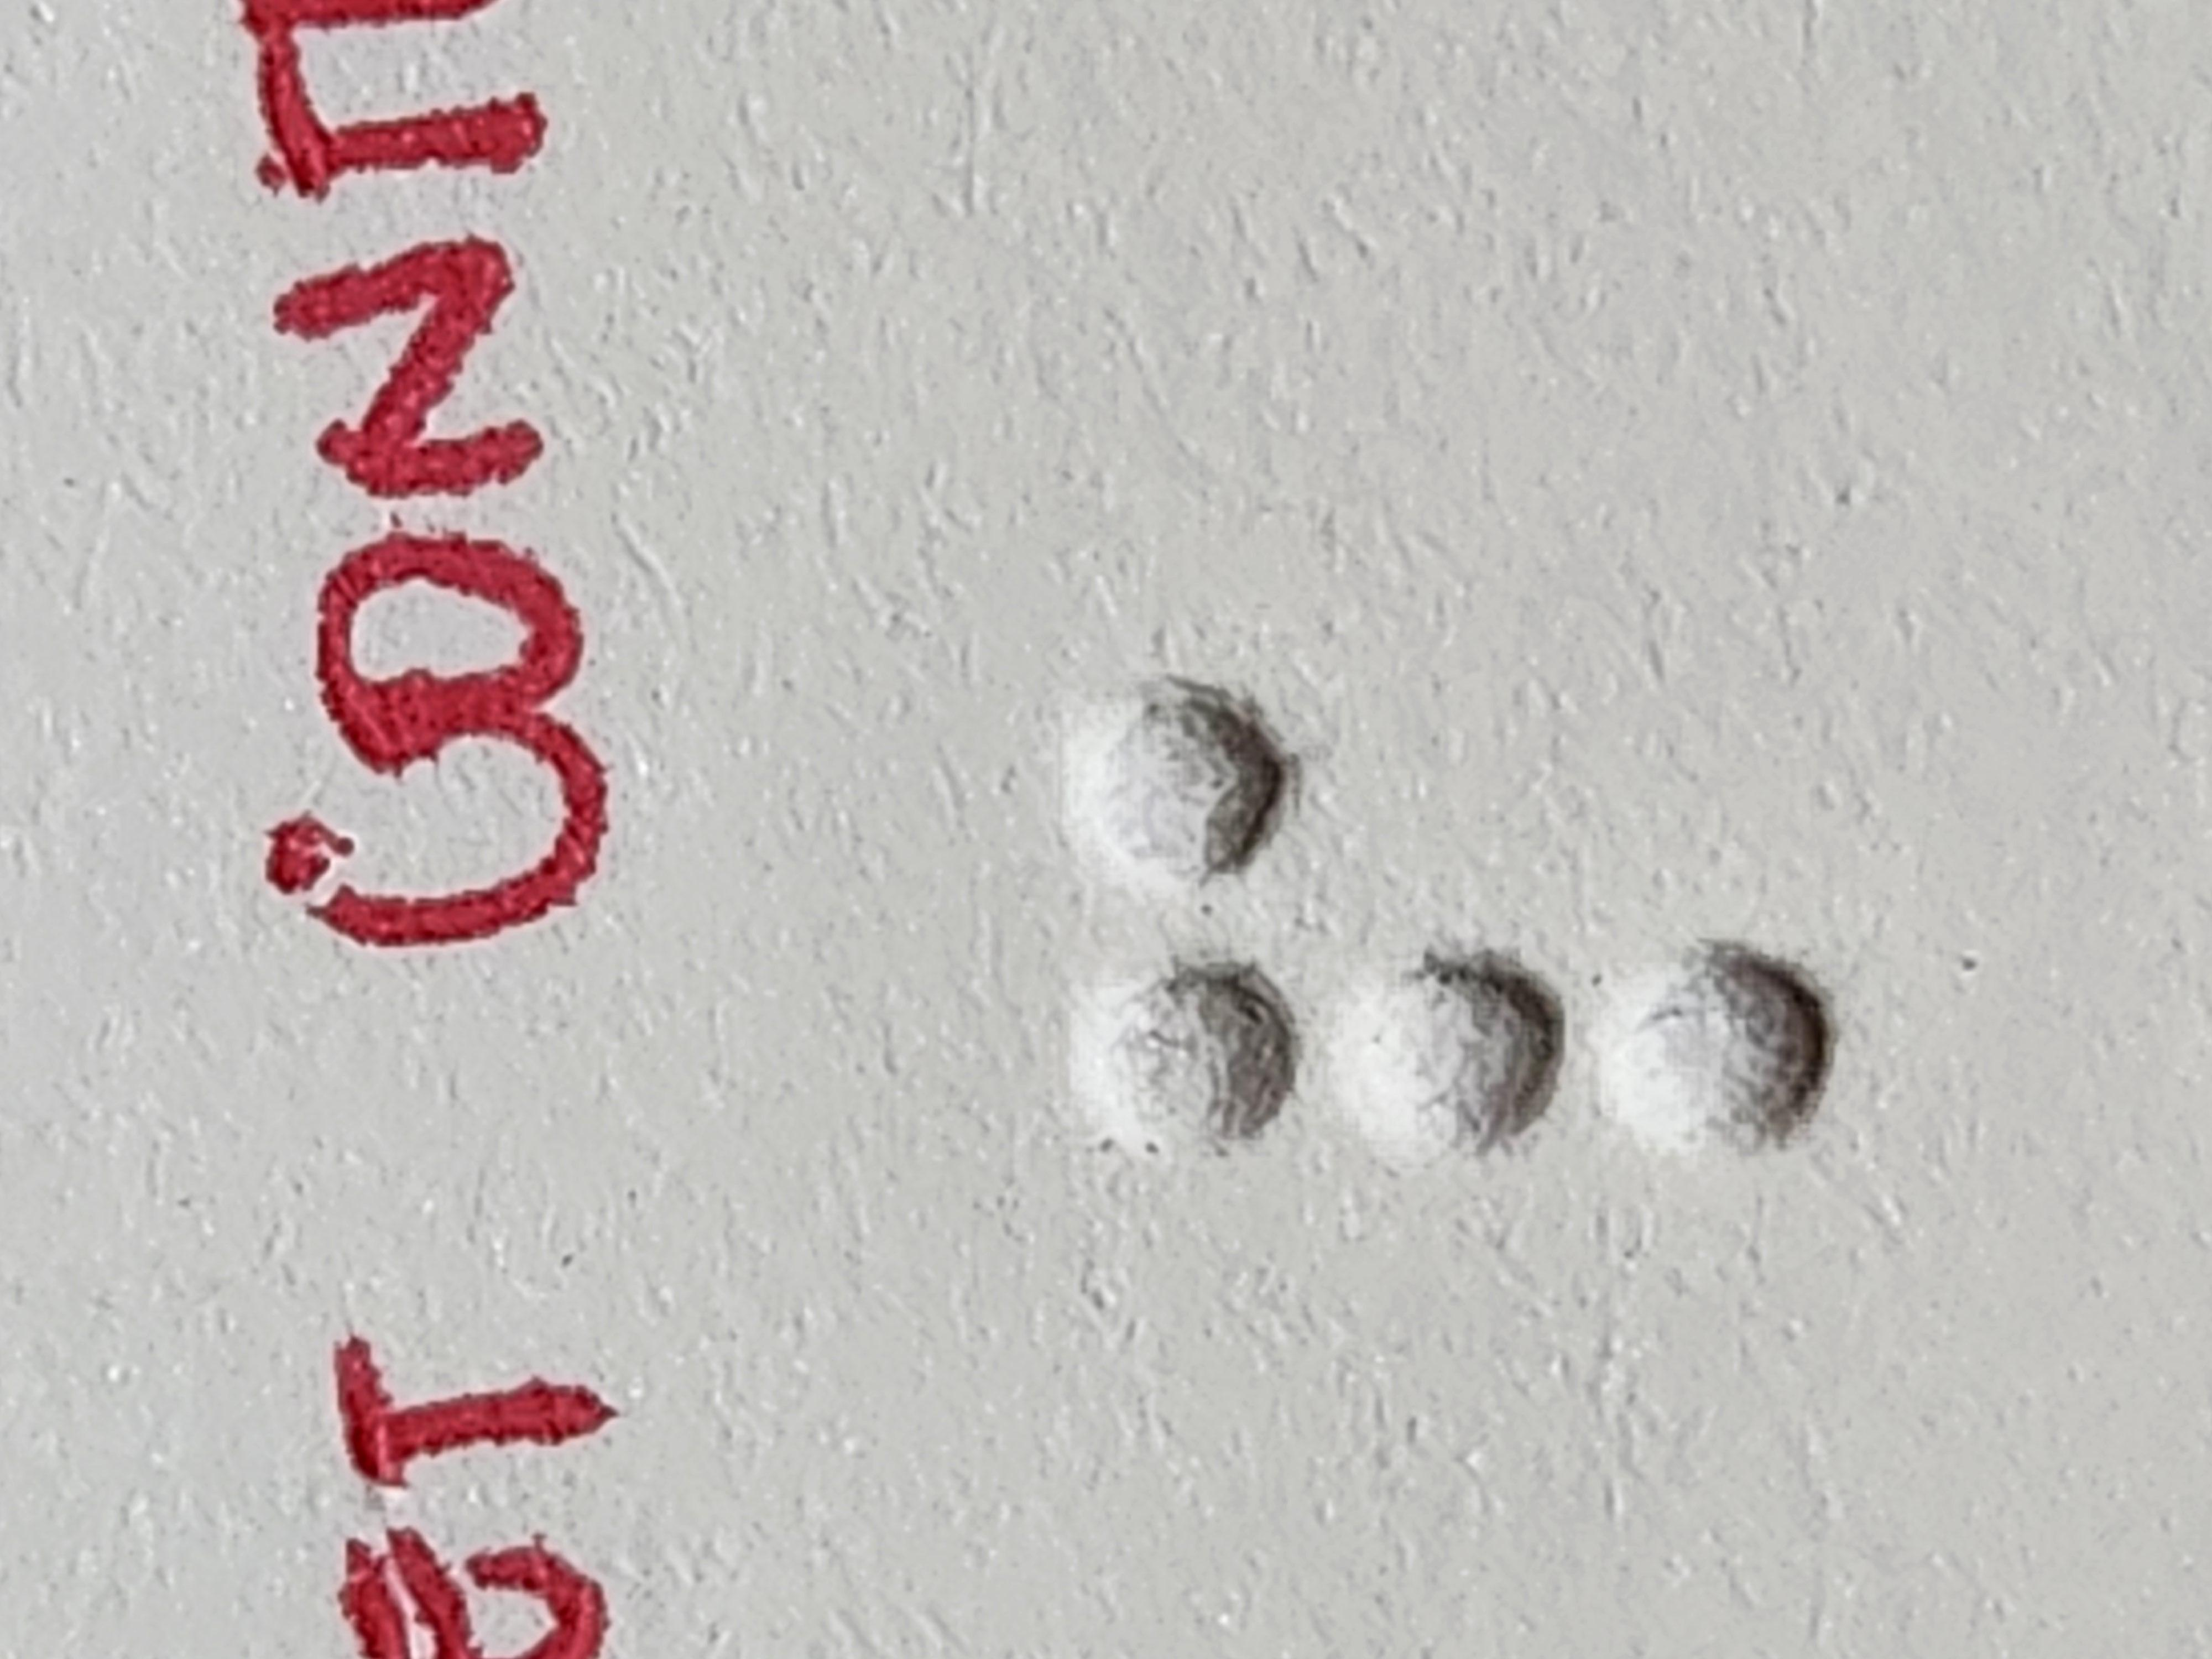one_cell_alphabet_para: (679, 810, 1327, 1375)
